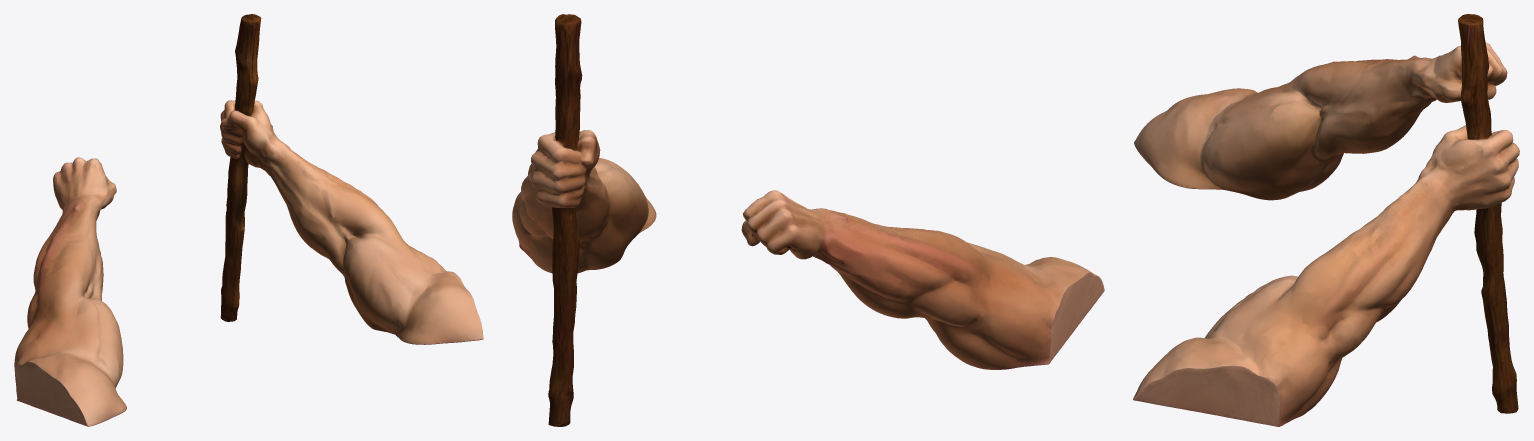
The model's file is arms_holding_staff.glb.
3 renders of one model, left to right at view 1: azimuth 30°, elevation 25°; view 2: azimuth 150°, elevation 25°; view 3: azimuth 270°, elevation 25°, orthographic. The views are drawn at different scales.
Visible parts, largest first — view 1: tripo_node_ae1263db-5263-460f-a16f-946fc676639a; view 2: tripo_node_ae1263db-5263-460f-a16f-946fc676639a; view 3: tripo_node_ae1263db-5263-460f-a16f-946fc676639a.
Part boxes in pixels (x1=…): tripo_node_ae1263db-5263-460f-a16f-946fc676639a: x1=14, y1=14, x2=483, y2=426; tripo_node_ae1263db-5263-460f-a16f-946fc676639a: x1=512, y1=14, x2=1104, y2=426; tripo_node_ae1263db-5263-460f-a16f-946fc676639a: x1=1133, y1=14, x2=1519, y2=426.
Bounding box in the file's own units: 1 × 0.6943 × 0.6135.
Materials: 1 (1 with a texture image).
